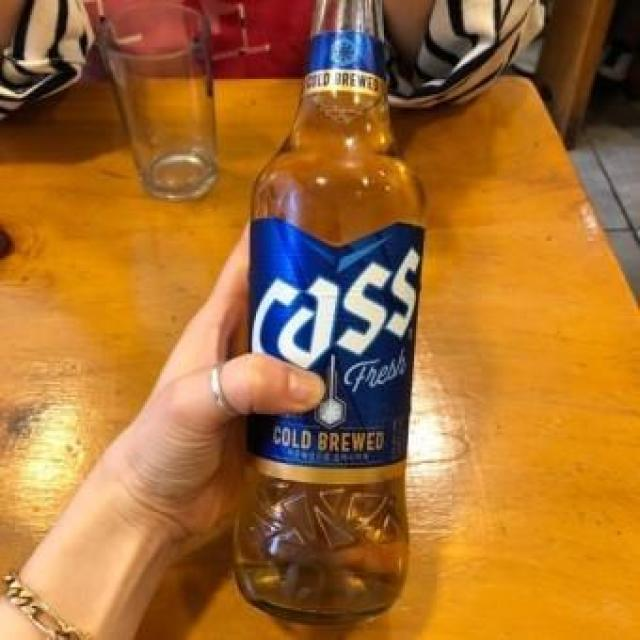beer-bottle: (228, 0, 430, 621)
